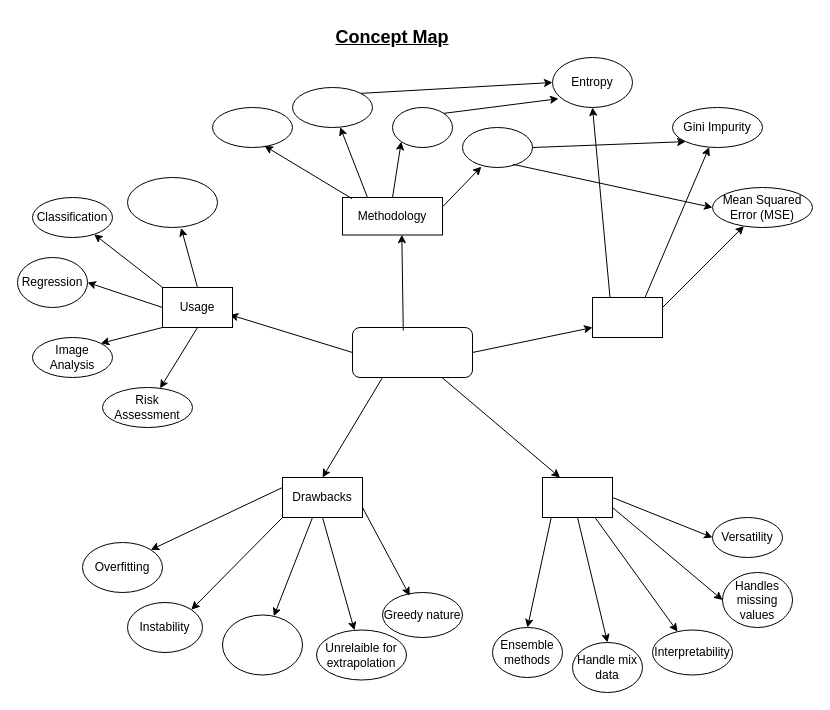
Image size: 830x710. Some labels were removed from this diagram. The centre of each missing label's shape, as x and y in pixels:
"Baised towards dominant" belongs at (262,644).
"Benefits" belongs at (577,497).
"C4.5 Algorithm" belongs at (332,107).
"CART Algorithm" belongs at (497,147).
"Decision Tree" belongs at (412,352).
"Gini Index" belongs at (252,127).
"ID3 Algorithm" belongs at (422,127).
"Ranking & Recommendation" belongs at (172,202).
"Splitting Criteria" belongs at (627,317).
